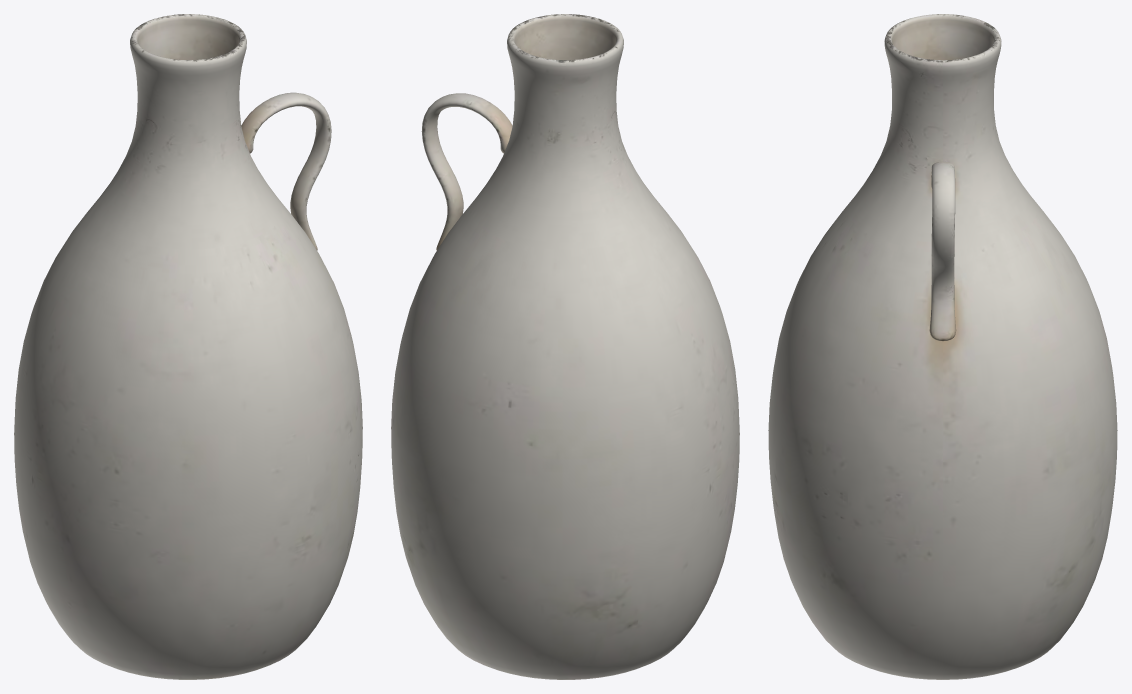
Rendered from ph-jug-vase.glb.
The picture shows the model from 3 angles, left to right: view 1: azimuth 30°, elevation 25°; view 2: azimuth 150°, elevation 25°; view 3: azimuth 270°, elevation 25°; orthographic projection.
Parts seen in each view (by area): view 1: ceramic_vase_04; view 2: ceramic_vase_04; view 3: ceramic_vase_04.
Part boxes in pixels (x1,y1,x2,y2): ceramic_vase_04: (14,14,362,679); ceramic_vase_04: (391,14,739,679); ceramic_vase_04: (768,14,1117,679).
Size of the model in its own units: 0.1811 by 0.3419 by 0.1811.
1 material, 1 textured.
